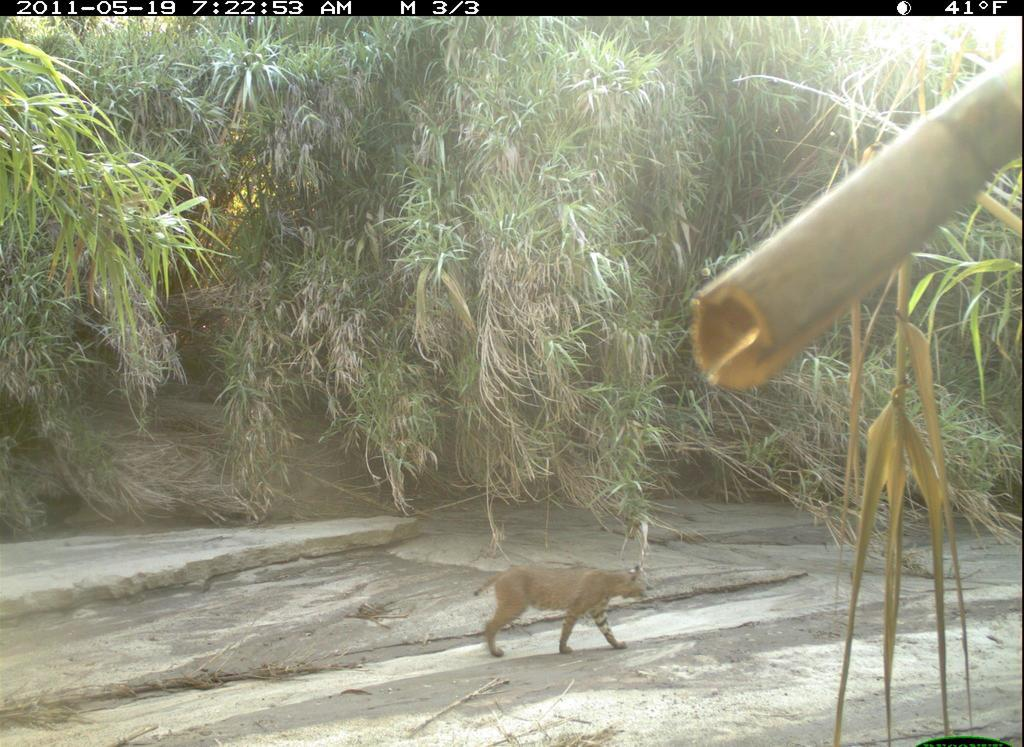bobcat: (472, 545, 683, 665)
